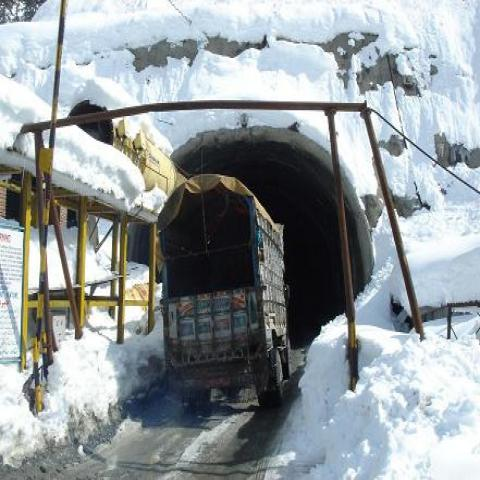truck: (153, 173, 296, 423)
